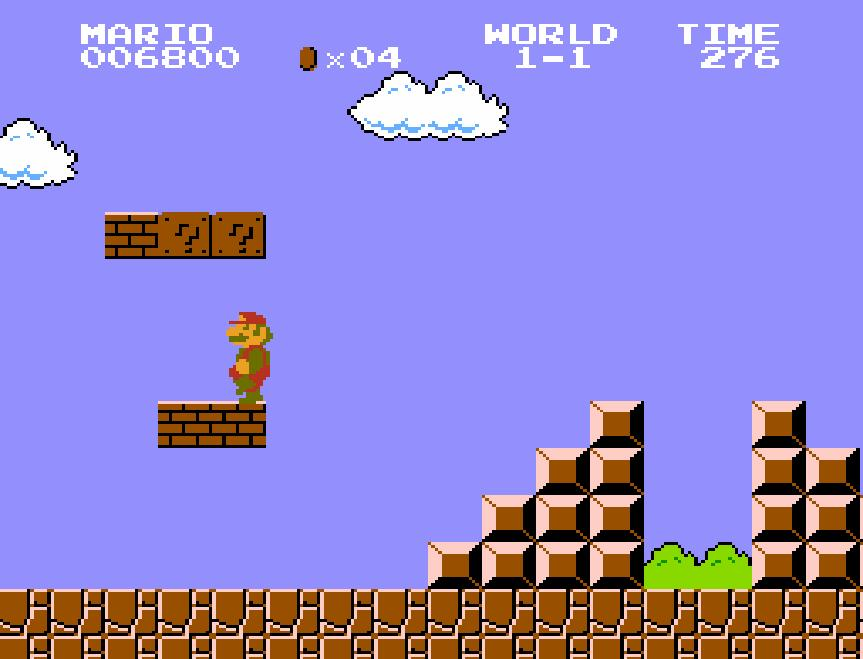big_mario: (220, 307, 278, 405)
